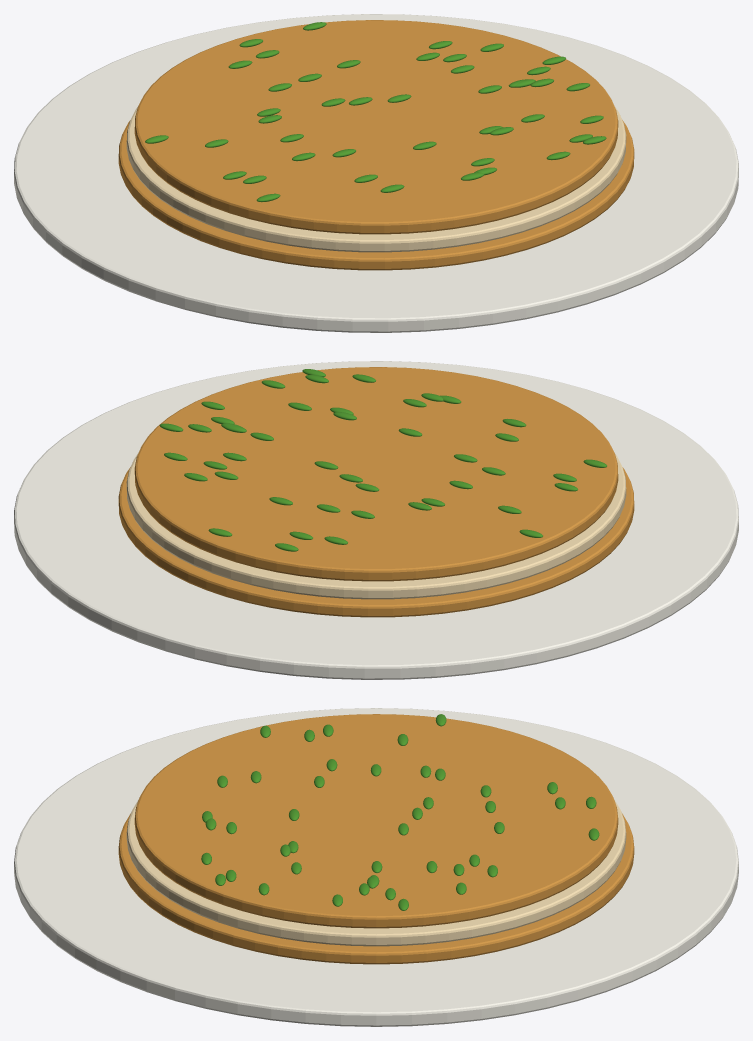
Rendered from scallion-pancake.glb.
The picture shows the model from 3 angles, top to bottom: view 1: azimuth 30°, elevation 25°; view 2: azimuth 150°, elevation 25°; view 3: azimuth 270°, elevation 25°; orthographic projection.
Parts seen in each view (by area): view 1: 27cm demo plate, Layered pancake.002, Layered pancake, Layered pancake.001; view 2: 27cm demo plate, Layered pancake.002, Layered pancake, Layered pancake.001; view 3: 27cm demo plate, Layered pancake.002, Layered pancake, Layered pancake.001.
Boxes of the visible parts, x1,y1,x2,y2 form: 27cm demo plate: [14, 14, 738, 332]; Layered pancake.002: [134, 20, 618, 234]; Layered pancake: [118, 120, 634, 270]; Layered pancake.001: [126, 106, 626, 252]; 27cm demo plate: [14, 361, 738, 679]; Layered pancake.002: [134, 367, 618, 581]; Layered pancake: [118, 467, 634, 617]; Layered pancake.001: [126, 453, 626, 599]; 27cm demo plate: [14, 708, 738, 1026]; Layered pancake.002: [134, 714, 618, 928]; Layered pancake: [118, 813, 634, 964]; Layered pancake.001: [126, 799, 626, 946].
Size of the model in its own units: 0.27 by 0.027 by 0.27.
